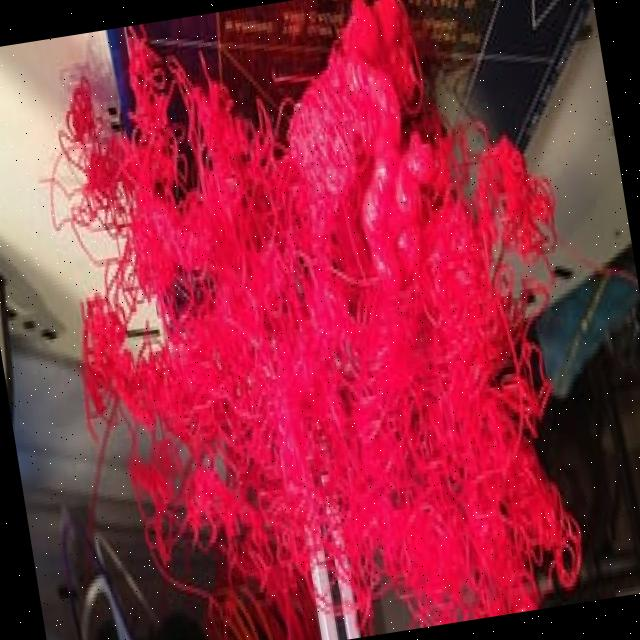spaghetti: (28, 0, 618, 640)
